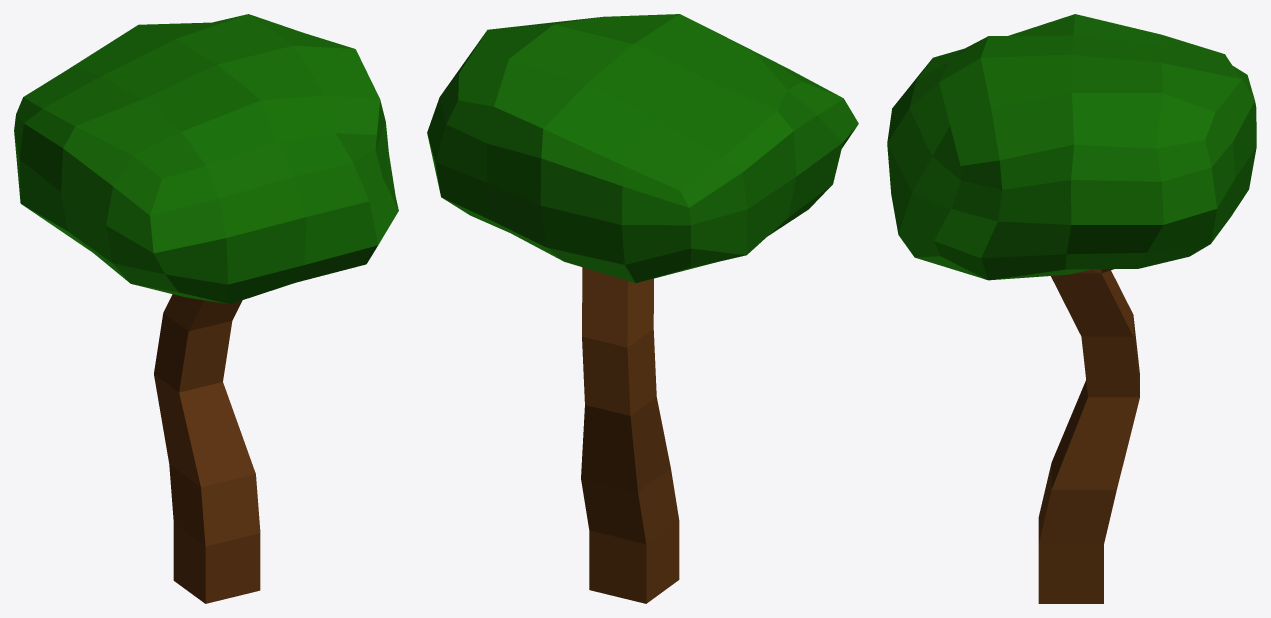
Rendered from BackdropTree5.fbx.
3 renders of one model, left to right at view 1: azimuth 30°, elevation 25°; view 2: azimuth 150°, elevation 25°; view 3: azimuth 270°, elevation 25°, orthographic. The views are drawn at different scales.
Parts seen in each view (by area): view 1: Stam; view 2: Stam; view 3: Stam.
Part boxes in pixels (x1,y1,x2,y2): Stam: [14, 14, 398, 603]; Stam: [427, 14, 858, 603]; Stam: [887, 14, 1256, 603].
Bounding box in the file's own units: 400 × 399 × 638.
